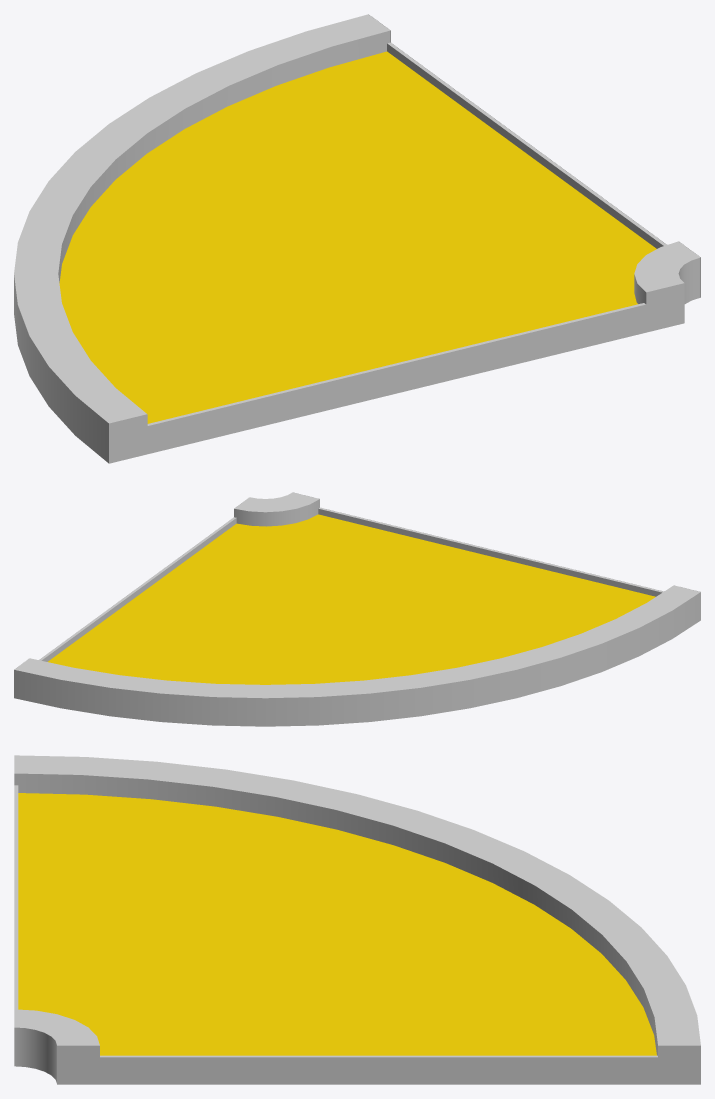
Rendered from CORNER_UP.fbx.
The picture shows the model from 3 angles, top to bottom: view 1: azimuth 30°, elevation 25°; view 2: azimuth 150°, elevation 25°; view 3: azimuth 270°, elevation 25°; orthographic projection. The views are drawn at different scales.
Visible parts, largest first — view 1: map.001; view 2: map.001; view 3: map.001.
Part boxes in pixels (left/top/right/bottom): map.001: left=14, top=14, right=700, bottom=463; map.001: left=14, top=492, right=700, bottom=726; map.001: left=14, top=755, right=700, bottom=1084.
Size of the model in its own units: 8002 by 500 by 8002.
